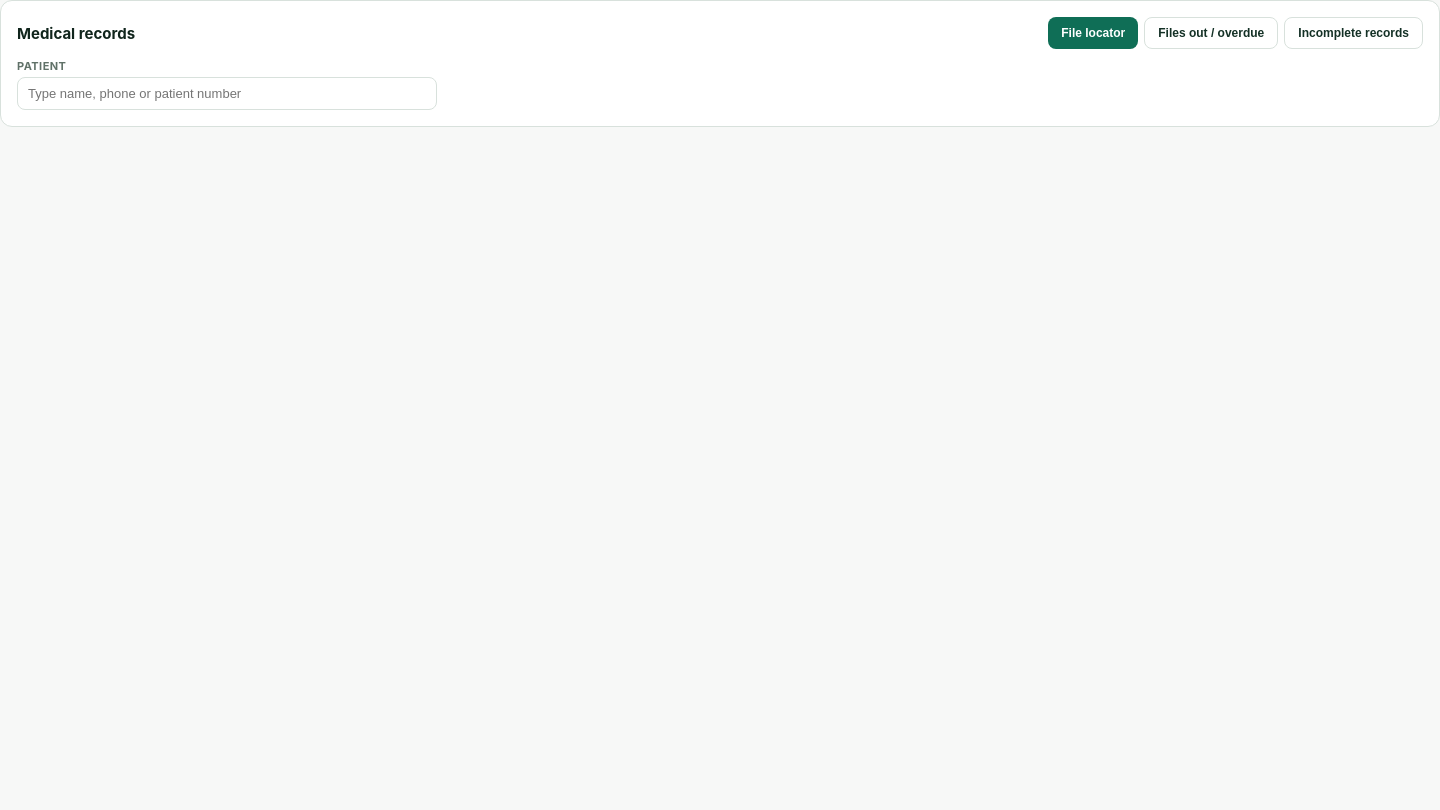
Test: records desk › lists overdue files and the incomplete records
The width and height of the screenshot is (1440, 810).
What coordinates should you click on to do the following:
click the tab "Files out / overdue"
I would click on:
 (1211, 33)
Its box is x1=1144 y1=17 x2=1278 y2=49.
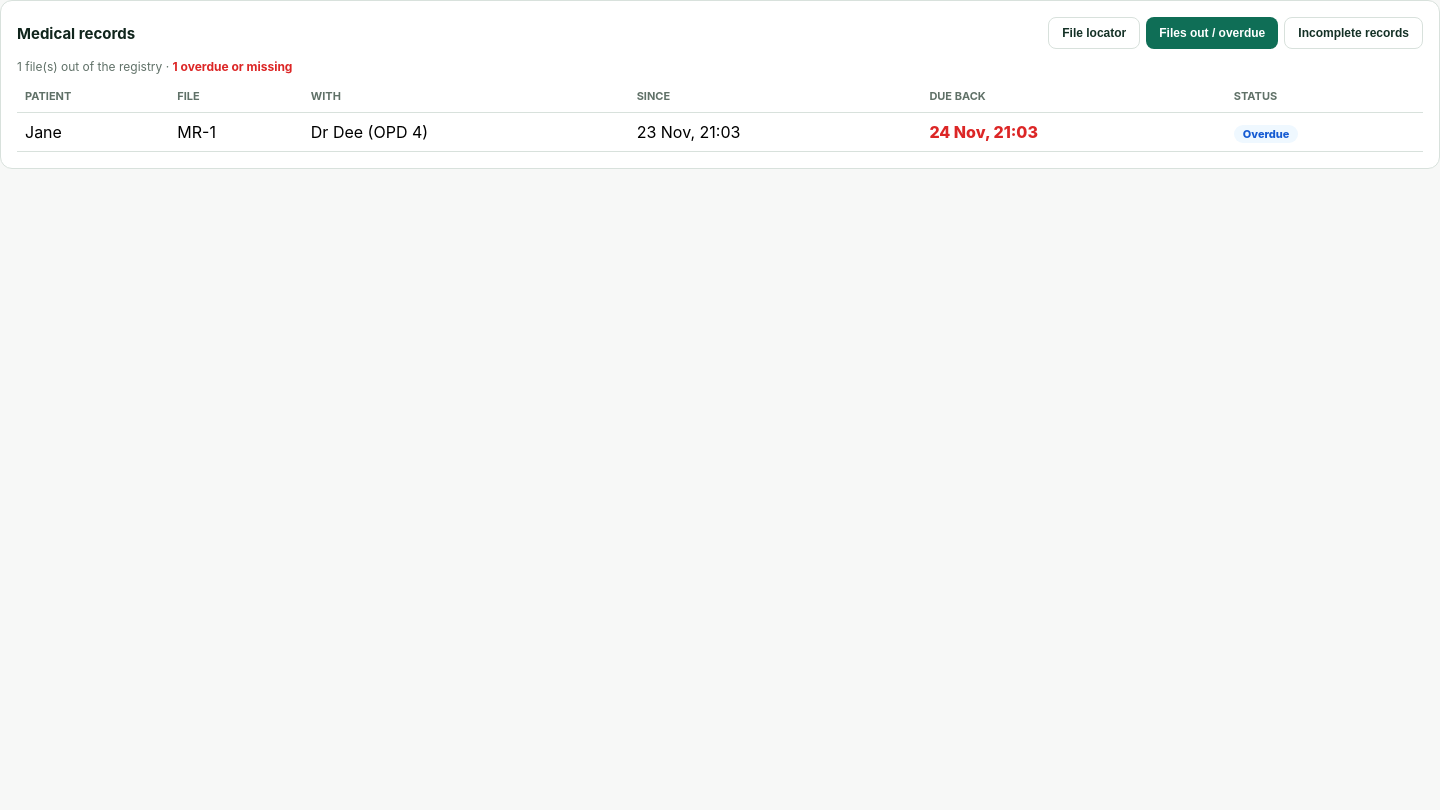
Now the text "1 overdue or missing" is shown, box x1=172 y1=59 x2=292 y2=74
What coordinates should you click on to do the following:
click the tab "Incomplete records"
I would click on:
 (1354, 33)
Its box is x1=1284 y1=17 x2=1423 y2=49.
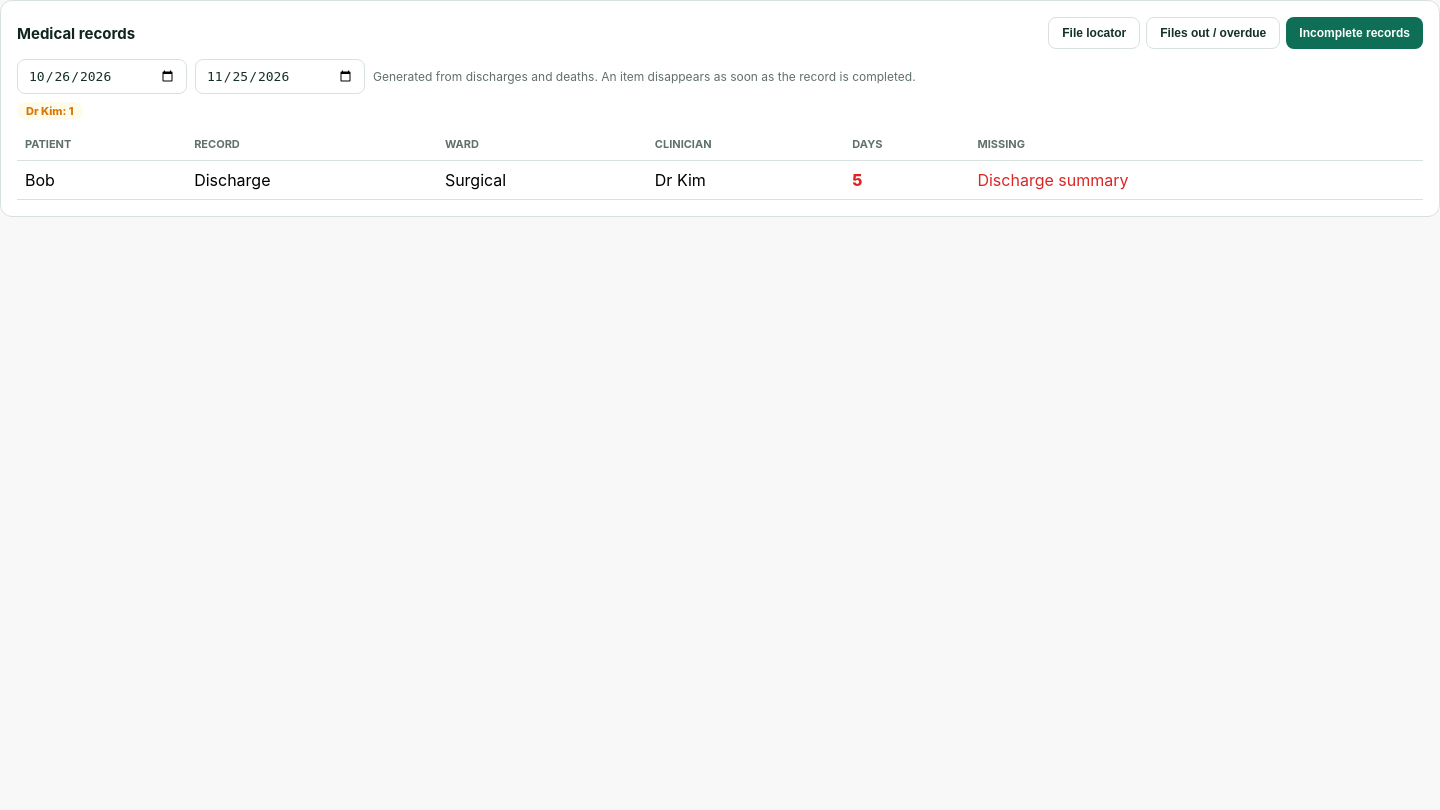
Now the text "Discharge summary" is shown, box x1=969 y1=160 x2=1423 y2=200
Now the text "Dr Kim: 1" is shown, box x1=17 y1=102 x2=83 y2=120
